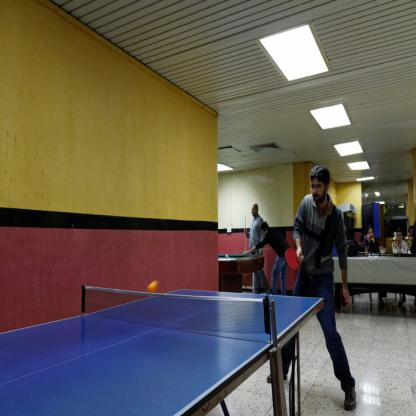Ball: (148, 281, 157, 293)
